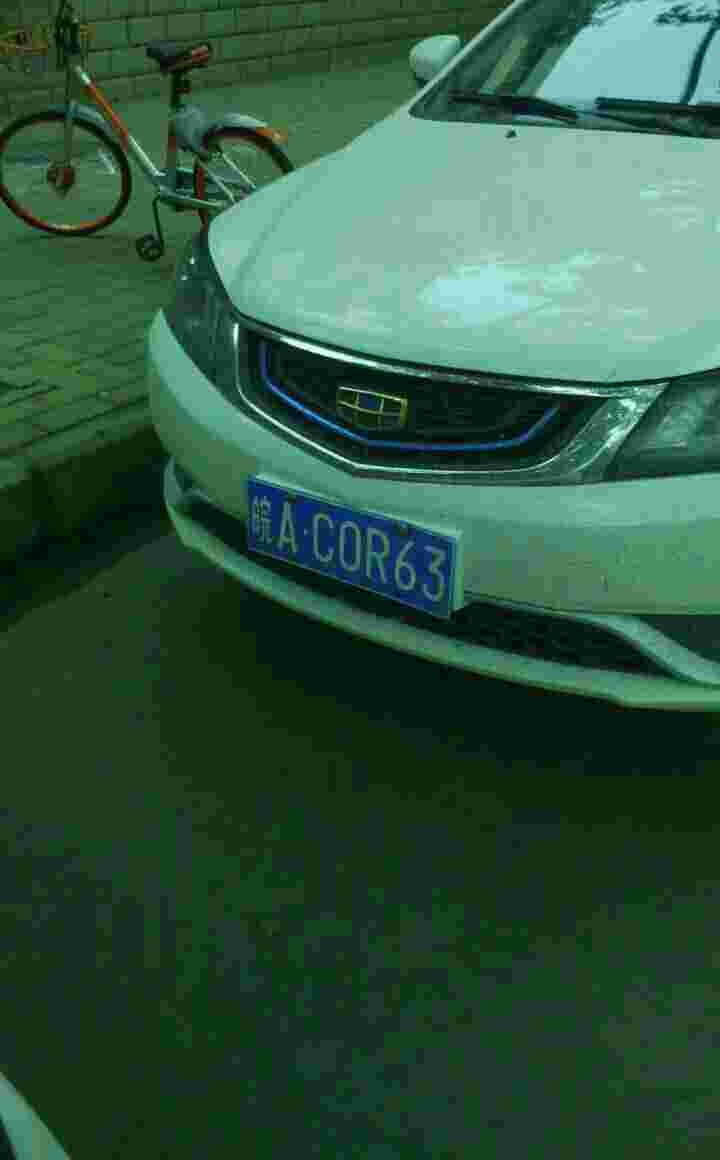license_plate: (245, 481, 474, 624)
